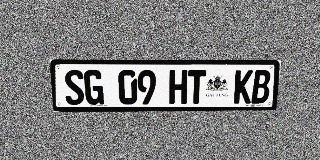0: (118, 70, 137, 105)
9: (137, 70, 156, 104)
B: (251, 70, 271, 103)
G: (84, 70, 104, 105)
H: (169, 70, 188, 104)
K: (233, 70, 253, 104)
S: (64, 70, 85, 105)
T: (187, 70, 206, 104)
